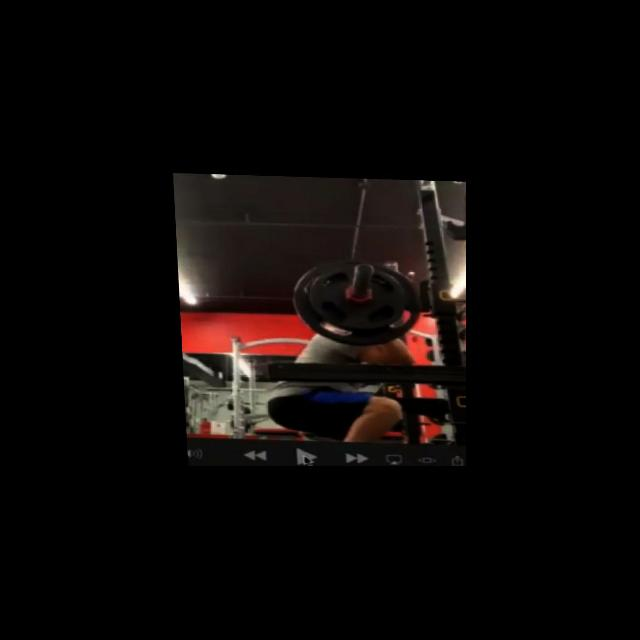barbell: (286, 254, 422, 347)
